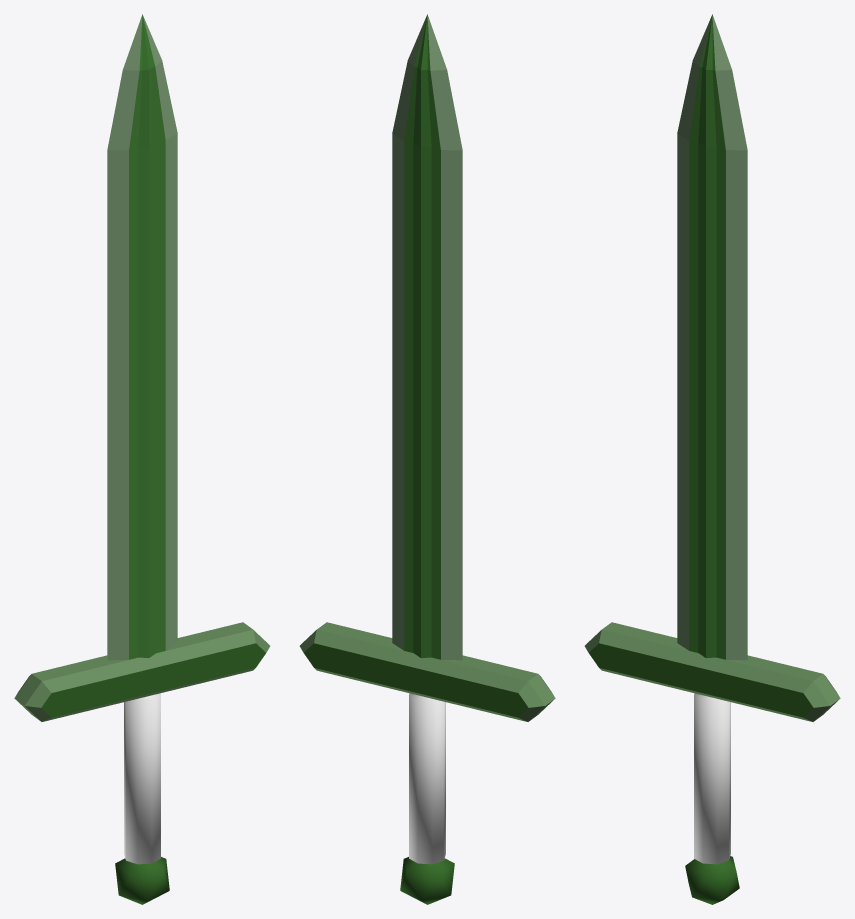
The model's file is cactus_sword.glb.
The picture shows the model from 3 angles, left to right: view 1: azimuth 30°, elevation 25°; view 2: azimuth 150°, elevation 25°; view 3: azimuth 330°, elevation 25°; orthographic projection.
Visible parts, largest first — view 1: cactus_sword_v0; view 2: cactus_sword_v0; view 3: cactus_sword_v0.
Part boxes in pixels (bbox=[...]): cactus_sword_v0: bbox=[14, 14, 270, 904]; cactus_sword_v0: bbox=[299, 14, 555, 904]; cactus_sword_v0: bbox=[584, 14, 840, 904].
Bounding box in the file's own units: 0.314 × 1.09 × 0.0578.
